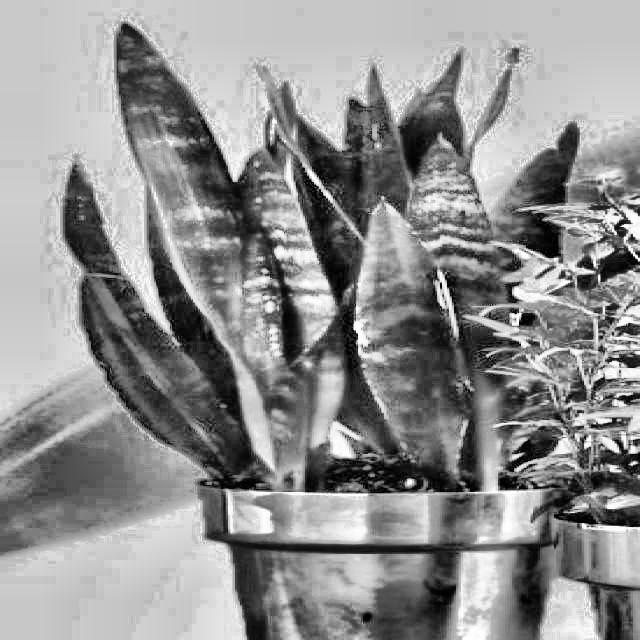plants: (42, 51, 476, 626), (507, 182, 638, 638)
